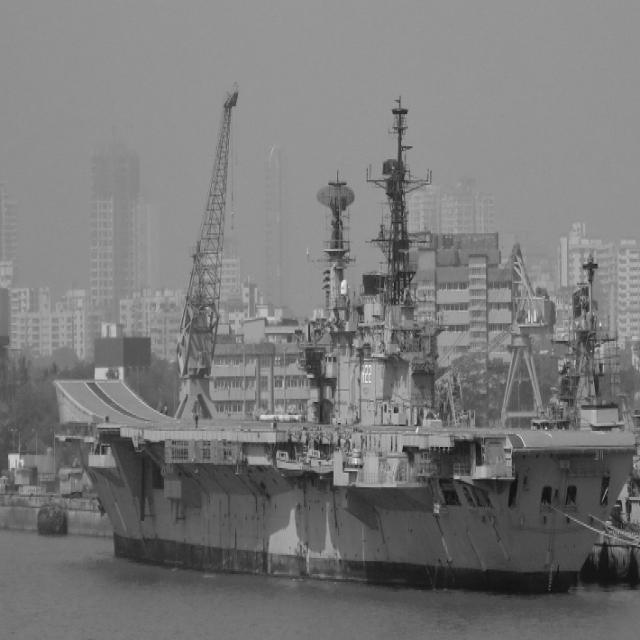Portanaves: (52, 186, 640, 602)
